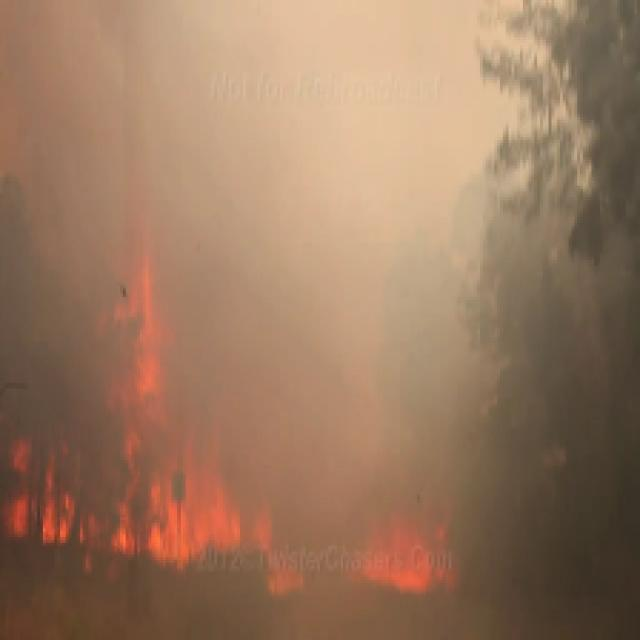Fire: (88, 272, 463, 582)
Smoke: (120, 34, 357, 246)
